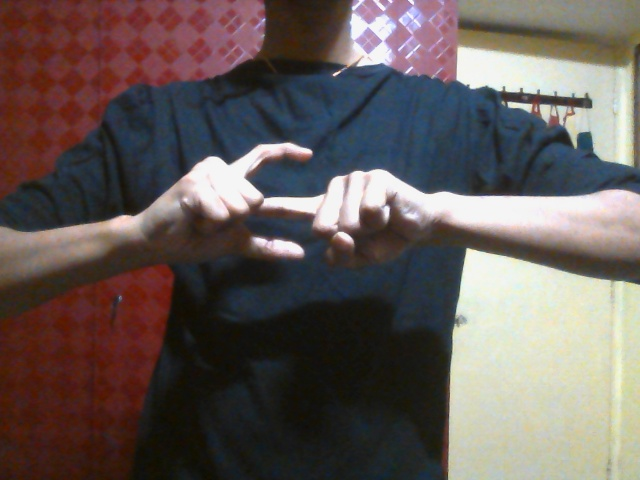E: (169, 141, 421, 275)
